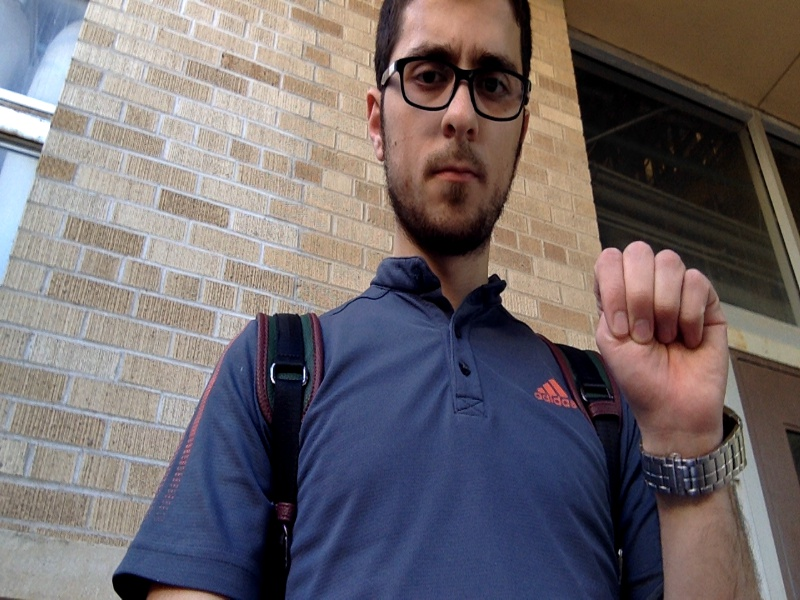0-hand: (595, 241, 729, 443)
